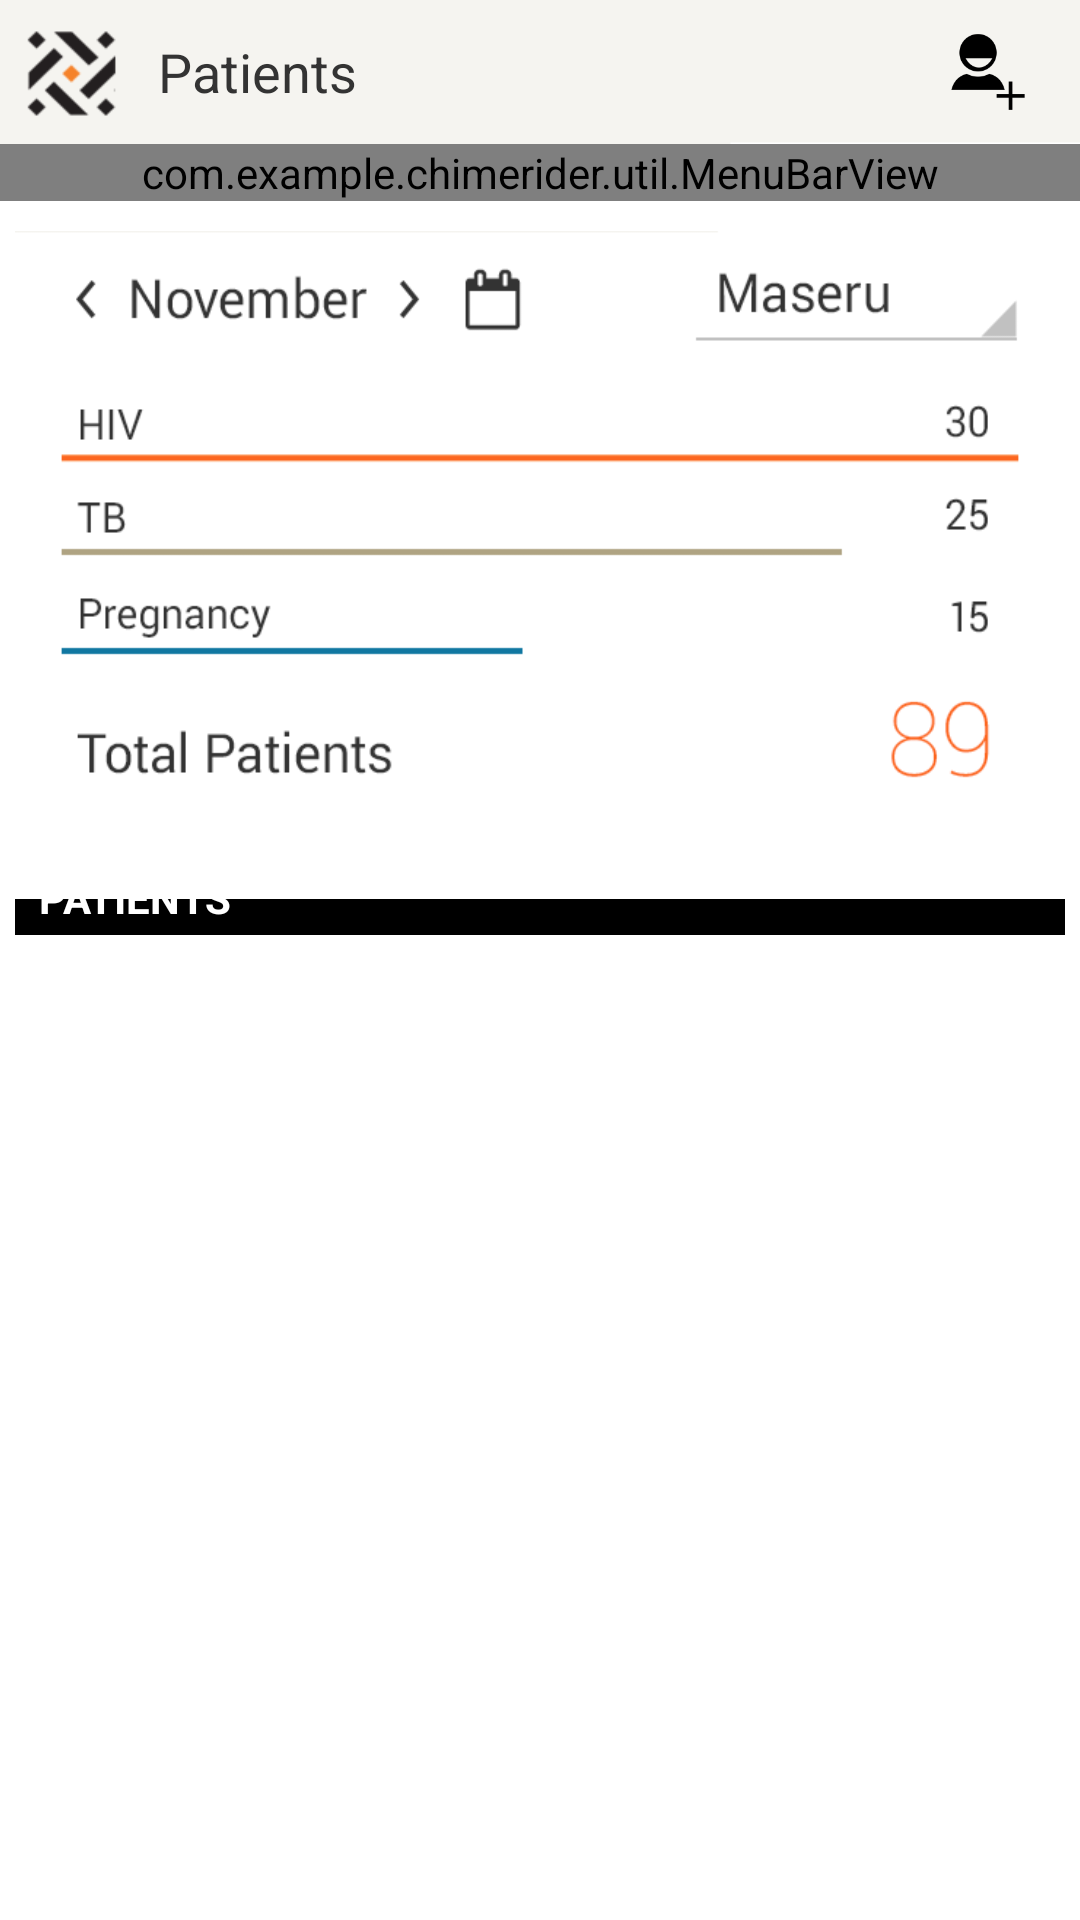

Icon click points for this 1080w x 1920h phone screenshot, format (x,y):
patient: (988,72)
